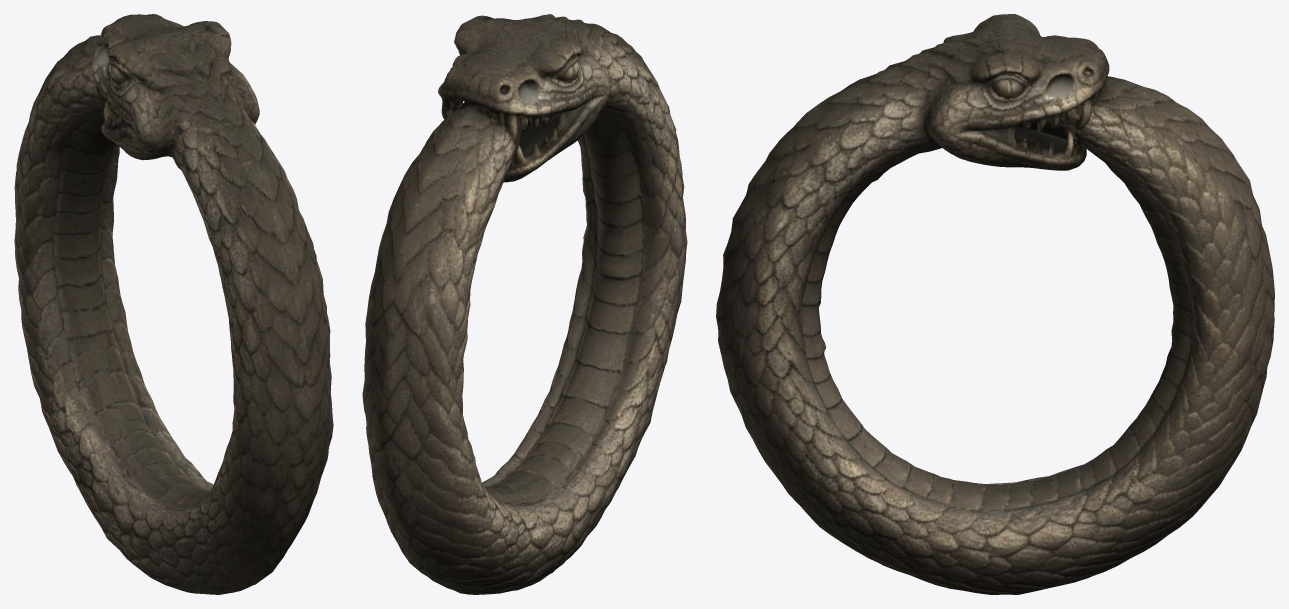
File: ouroboros.glb
3 renders of one model, left to right at view 1: azimuth 30°, elevation 25°; view 2: azimuth 150°, elevation 25°; view 3: azimuth 270°, elevation 25°, orthographic. The views are drawn at different scales.
Visible parts, largest first — view 1: tripo_node_dec8ce71-43c2-487d-a84a-1e51879ce101; view 2: tripo_node_dec8ce71-43c2-487d-a84a-1e51879ce101; view 3: tripo_node_dec8ce71-43c2-487d-a84a-1e51879ce101.
Boxes of the visible parts, x1,y1,x2,y2 form: tripo_node_dec8ce71-43c2-487d-a84a-1e51879ce101: [14, 14, 333, 594]; tripo_node_dec8ce71-43c2-487d-a84a-1e51879ce101: [362, 14, 687, 594]; tripo_node_dec8ce71-43c2-487d-a84a-1e51879ce101: [716, 14, 1274, 594].
Size of the model in its own units: 0.2282 by 0.9961 by 0.9038.
Materials: 1 (1 with a texture image).
